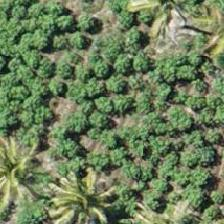coconut_tree: (41, 158, 131, 223), (0, 113, 56, 203), (130, 0, 220, 47)
